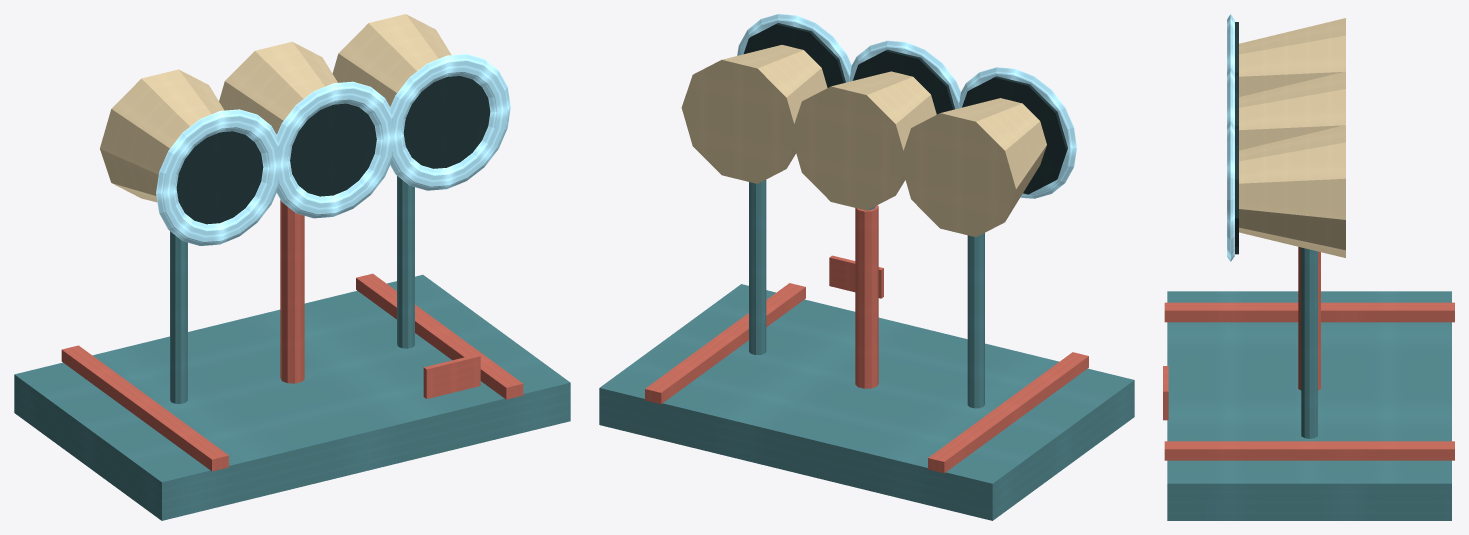
File: atlas100-s079-a02.lod1.glb
The picture shows the model from 3 angles, left to right: view 1: azimuth 30°, elevation 25°; view 2: azimuth 150°, elevation 25°; view 3: azimuth 270°, elevation 25°; orthographic projection. The views are drawn at different scales.
Visible parts, largest first — view 1: atlas100-s079-a02:part-000, atlas100-s079-a02:part-006, atlas100-s079-a02:part-008, atlas100-s079-a02:part-016, atlas100-s079-a02:part-012, atlas100-s079-a02:part-015, atlas100-s079-a02:part-007, atlas100-s079-a02:part-011, atlas100-s079-a02:part-010, atlas100-s079-a02:part-014, atlas100-s079-a02:part-001, atlas100-s079-a02:part-003 (+4 smaller); view 2: atlas100-s079-a02:part-000, atlas100-s079-a02:part-006, atlas100-s079-a02:part-014, atlas100-s079-a02:part-010, atlas100-s079-a02:part-003, atlas100-s079-a02:part-001, atlas100-s079-a02:part-002, atlas100-s079-a02:part-007, atlas100-s079-a02:part-005, atlas100-s079-a02:part-013, atlas100-s079-a02:part-008, atlas100-s079-a02:part-015 (+4 smaller); view 3: atlas100-s079-a02:part-000, atlas100-s079-a02:part-014, atlas100-s079-a02:part-002, atlas100-s079-a02:part-006, atlas100-s079-a02:part-010, atlas100-s079-a02:part-001, atlas100-s079-a02:part-013, atlas100-s079-a02:part-016, atlas100-s079-a02:part-003, atlas100-s079-a02:part-015, atlas100-s079-a02:part-012, atlas100-s079-a02:part-008.
Part boxes in pixels (box(x1,y1,x2,y2)): atlas100-s079-a02:part-000: box(14, 274, 570, 520); atlas100-s079-a02:part-006: box(100, 69, 224, 202); atlas100-s079-a02:part-008: box(156, 109, 280, 245); atlas100-s079-a02:part-016: box(390, 54, 510, 190); atlas100-s079-a02:part-012: box(276, 81, 394, 218); atlas100-s079-a02:part-015: box(403, 76, 490, 168); atlas100-s079-a02:part-007: box(176, 131, 263, 224); atlas100-s079-a02:part-011: box(290, 103, 376, 196); atlas100-s079-a02:part-010: box(219, 41, 337, 134); atlas100-s079-a02:part-014: box(332, 14, 451, 106); atlas100-s079-a02:part-001: box(61, 345, 228, 471); atlas100-s079-a02:part-003: box(280, 200, 304, 383); atlas100-s079-a02:part-000: box(599, 284, 1134, 520); atlas100-s079-a02:part-006: box(900, 98, 1046, 237); atlas100-s079-a02:part-014: box(681, 45, 827, 183); atlas100-s079-a02:part-010: box(791, 71, 936, 210); atlas100-s079-a02:part-003: box(855, 205, 878, 388); atlas100-s079-a02:part-001: box(928, 352, 1088, 473); atlas100-s079-a02:part-002: box(645, 283, 805, 404); atlas100-s079-a02:part-007: box(962, 76, 1067, 194); atlas100-s079-a02:part-005: box(967, 233, 984, 408); atlas100-s079-a02:part-013: box(749, 180, 766, 354); atlas100-s079-a02:part-008: box(959, 67, 1076, 198); atlas100-s079-a02:part-015: box(743, 23, 845, 87); atlas100-s079-a02:part-000: box(1167, 291, 1451, 520); atlas100-s079-a02:part-014: box(1239, 125, 1345, 257); atlas100-s079-a02:part-002: box(1164, 441, 1454, 460); atlas100-s079-a02:part-006: box(1239, 18, 1345, 96); atlas100-s079-a02:part-010: box(1239, 71, 1345, 150); atlas100-s079-a02:part-001: box(1164, 302, 1454, 322); atlas100-s079-a02:part-013: box(1301, 247, 1317, 438); atlas100-s079-a02:part-016: box(1227, 121, 1234, 261); atlas100-s079-a02:part-003: box(1298, 247, 1320, 390); atlas100-s079-a02:part-015: box(1235, 128, 1238, 254); atlas100-s079-a02:part-012: box(1227, 67, 1234, 126); atlas100-s079-a02:part-008: box(1227, 14, 1234, 72).
Bounding box in the file's own units: 2.88 × 2.45 × 1.85.
5 materials, 5 textured.
